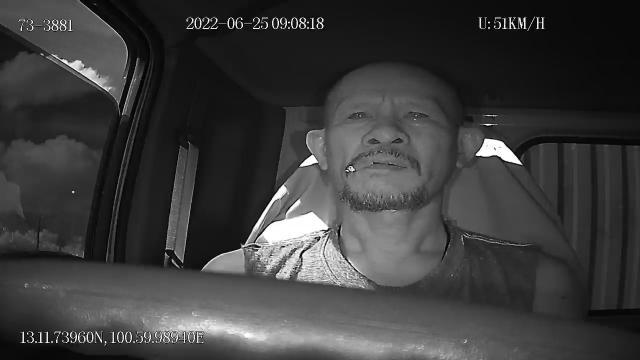SafeDriving: (396, 100, 436, 129), (339, 102, 379, 128)
Smoking: (345, 160, 375, 174)
